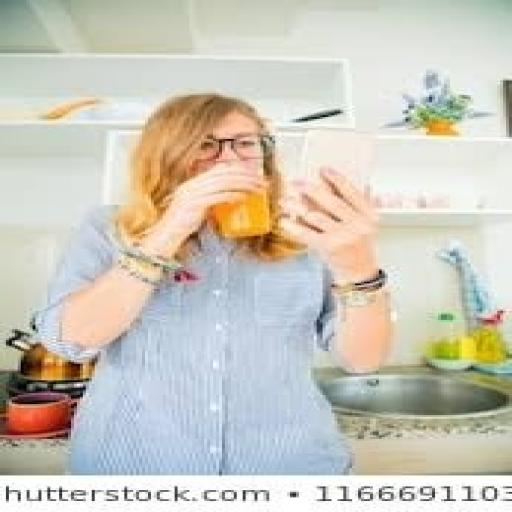drinking: (207, 176, 272, 238)
